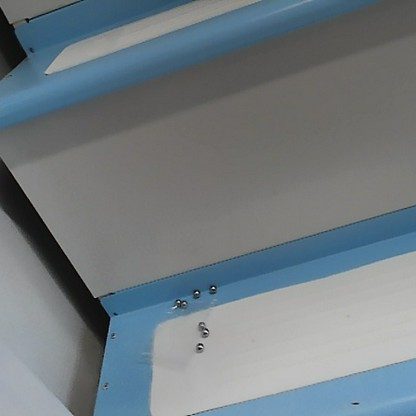ironball: (192, 339, 204, 354), (178, 297, 189, 310), (198, 326, 209, 338), (207, 282, 217, 294), (190, 286, 200, 298), (196, 318, 206, 330), (171, 296, 181, 307)
